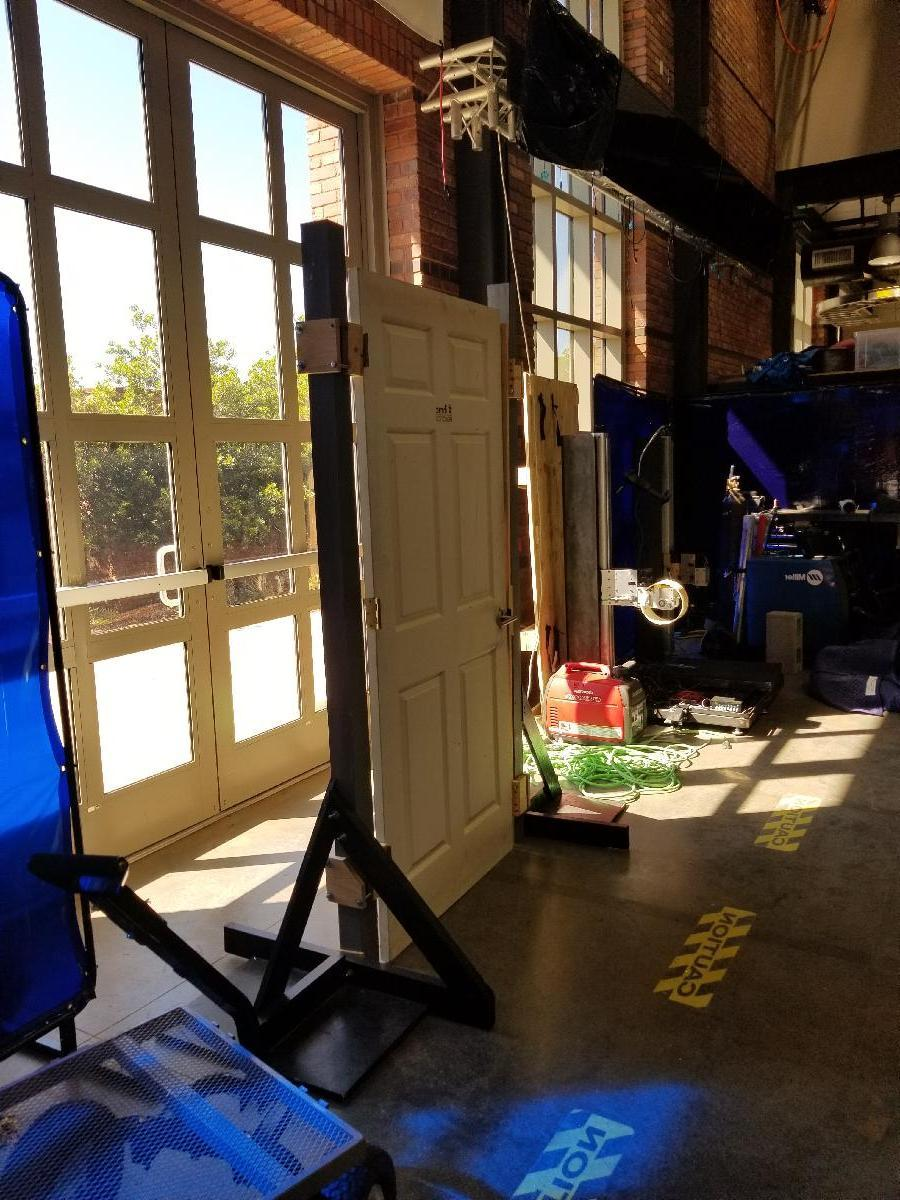door: (366, 278, 504, 947)
handle: (495, 606, 518, 630)
